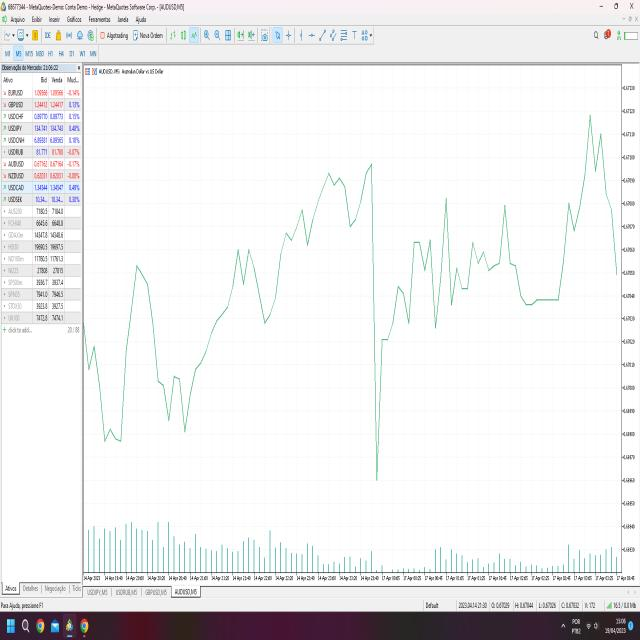fundo_duplo: (148, 332, 212, 449)
